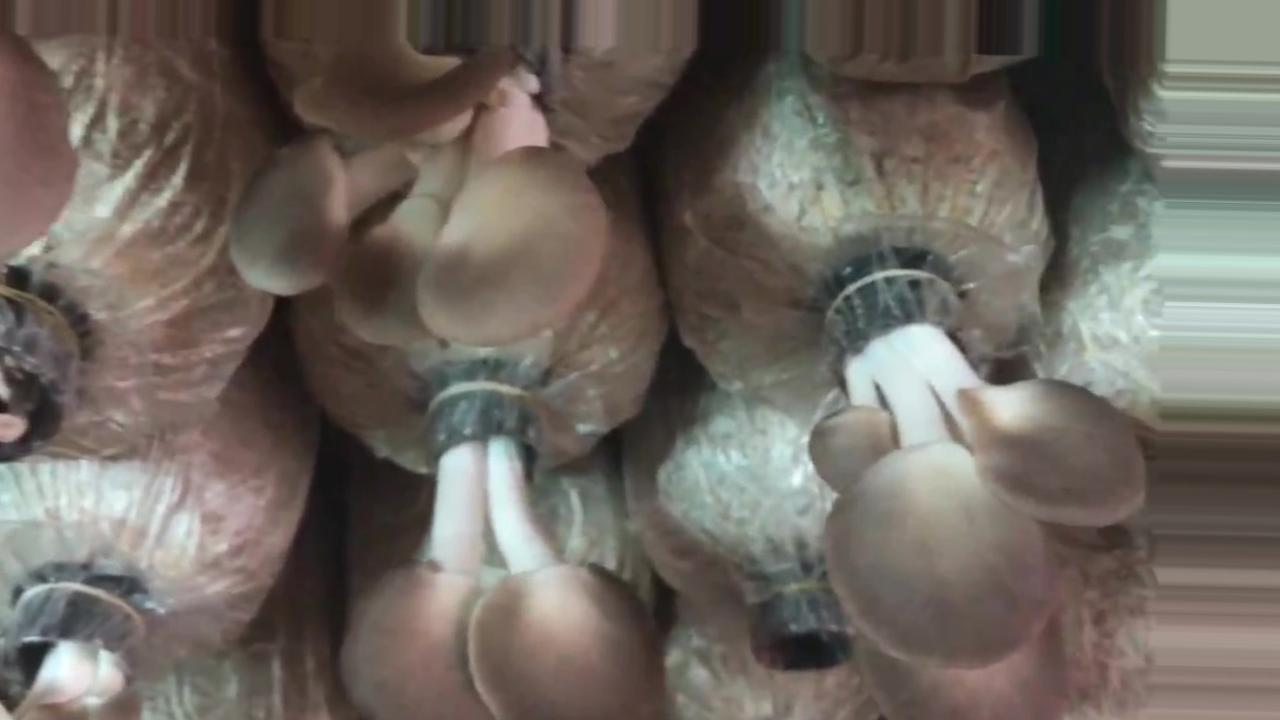nam: (809, 270, 1147, 720), (232, 1, 610, 348), (344, 389, 652, 720), (1, 27, 71, 262)
